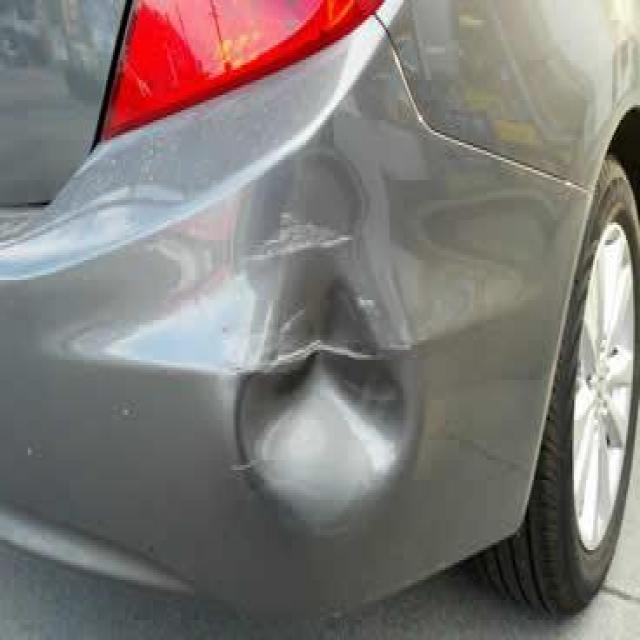dent: (216, 238, 424, 520)
